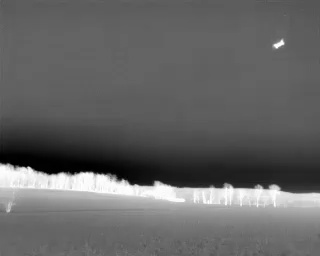DRONE: (269, 34, 289, 54)
